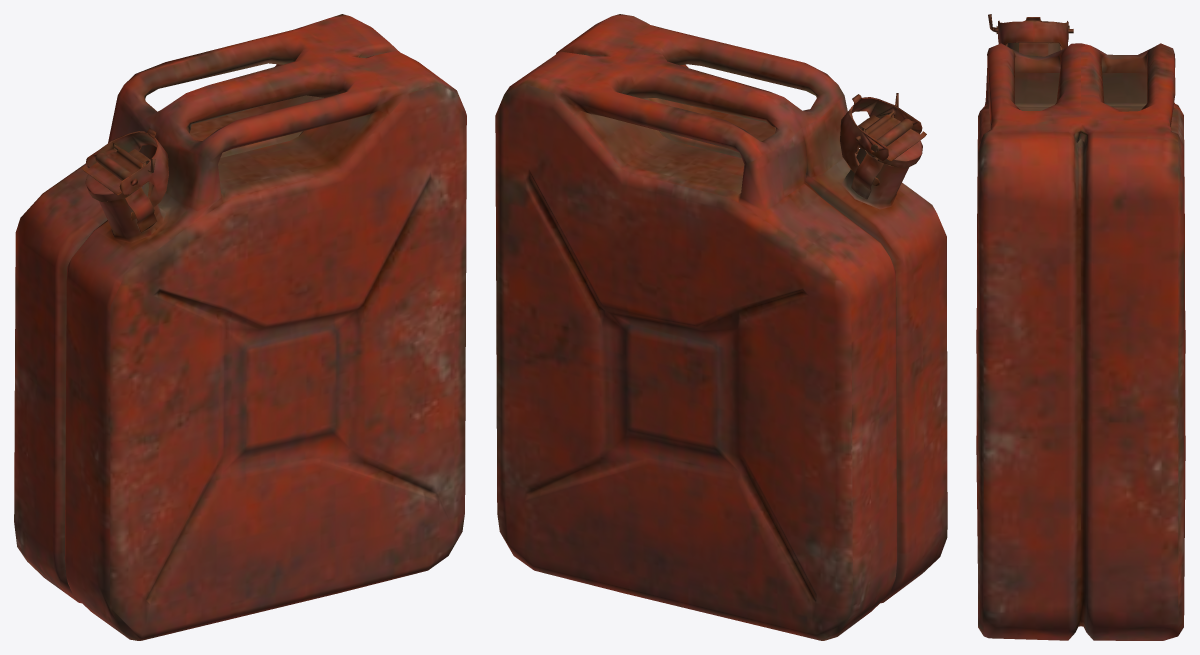
File: metal_jerrycan.gltf
3 views of the same model, side by side, from view 1: azimuth 30°, elevation 25°; view 2: azimuth 150°, elevation 25°; view 3: azimuth 270°, elevation 25° (orthographic). The views are drawn at different scales.
Parts seen in each view (by area): view 1: metal_jerrycan; view 2: metal_jerrycan; view 3: metal_jerrycan.
Boxes of the visible parts, left/top/right/bottom form: metal_jerrycan: left=14, top=14, right=466, bottom=640; metal_jerrycan: left=495, top=14, right=947, bottom=640; metal_jerrycan: left=976, top=14, right=1185, bottom=640.
Size of the model in its own units: 0.3503 by 0.4546 by 0.1717.
Materials: 1 (1 with a texture image).
